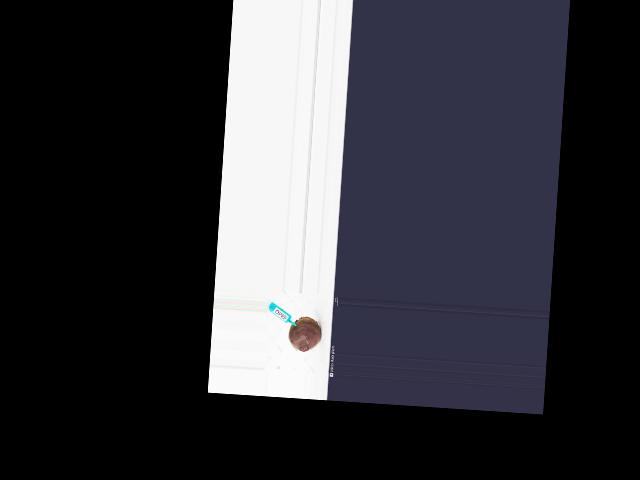beet: (287, 315, 322, 352)
